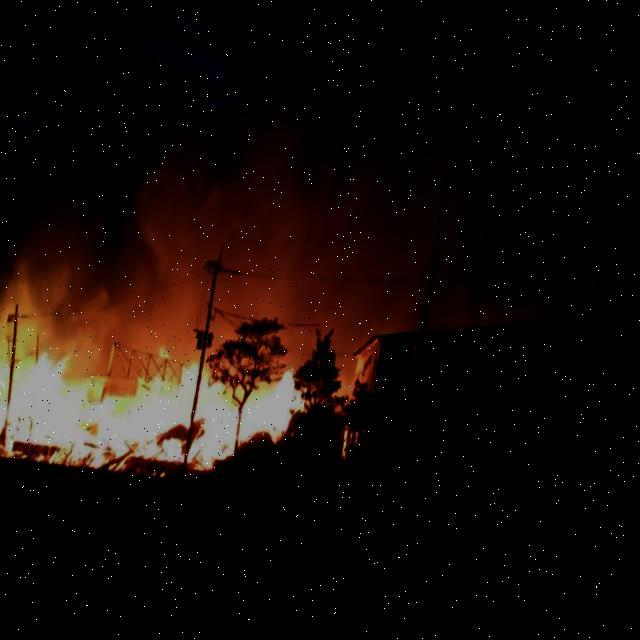Fire: (0, 301, 333, 484), (352, 416, 374, 452)
